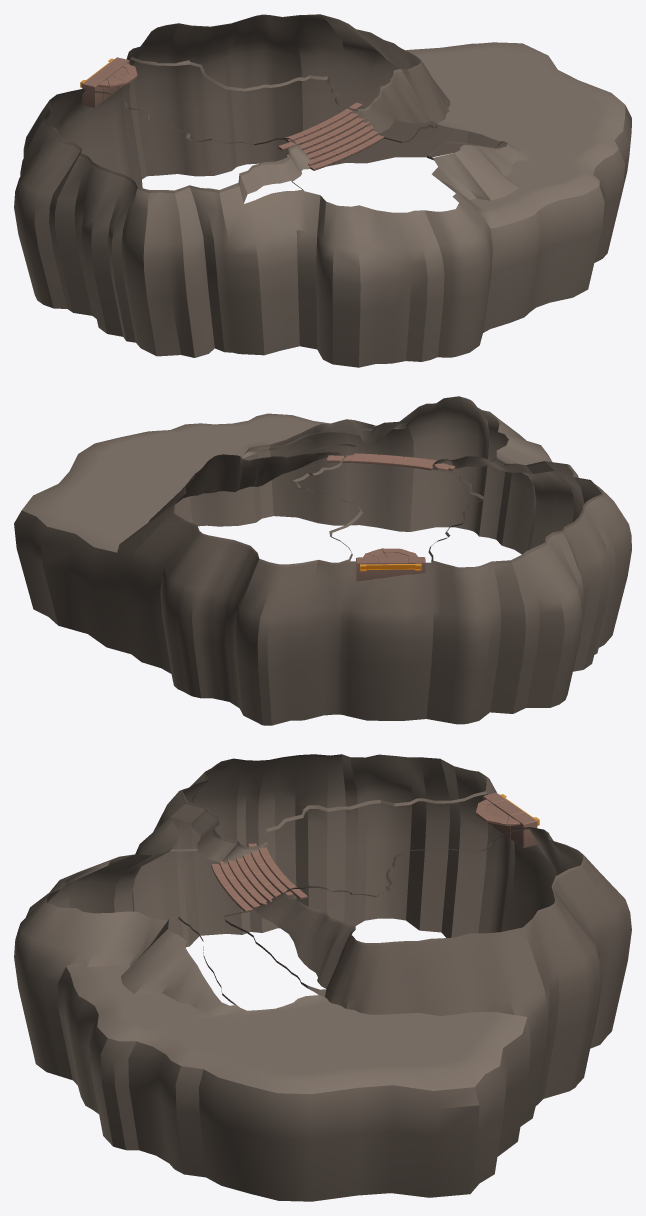
The model's file is islandA.002.fbx.
The picture shows the model from 3 angles, top to bottom: view 1: azimuth 30°, elevation 25°; view 2: azimuth 150°, elevation 25°; view 3: azimuth 270°, elevation 25°; orthographic projection. The views are drawn at different scales.
Parts seen in each view (by area): view 1: Island.001, escaletas, Conector puente.003; view 2: Island.001, Conector puente.003, escaletas; view 3: Island.001, escaletas, Conector puente.003.
Part boxes in pixels (left/top/right/bottom): Island.001: left=14, top=14, right=631, bottom=367; escaletas: left=278, top=102, right=383, bottom=170; Conector puente.003: left=80, top=57, right=137, bottom=107; Island.001: left=14, top=396, right=631, bottom=725; Conector puente.003: left=356, top=548, right=425, bottom=581; escaletas: left=326, top=453, right=455, bottom=470; Island.001: left=14, top=754, right=631, bottom=1201; escaletas: left=211, top=843, right=307, bottom=912; Conector puente.003: left=476, top=792, right=539, bottom=847.
Bounding box in the file's own units: 2018 × 550 × 1745.
